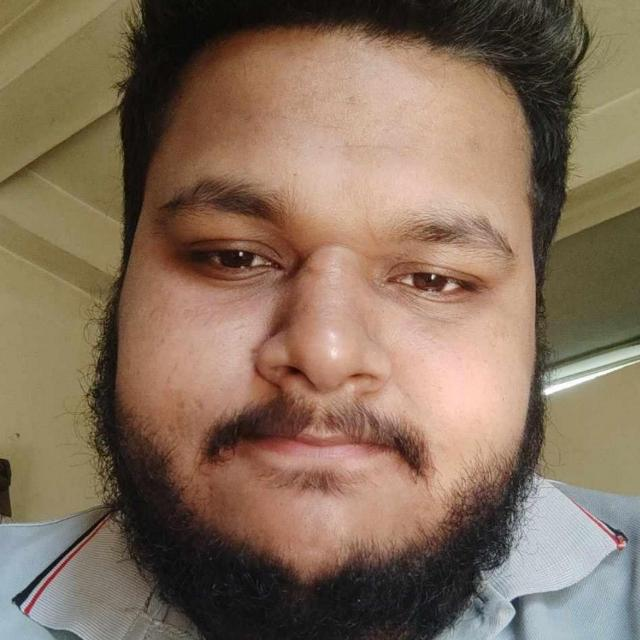Natural: (91, 82, 520, 620)
